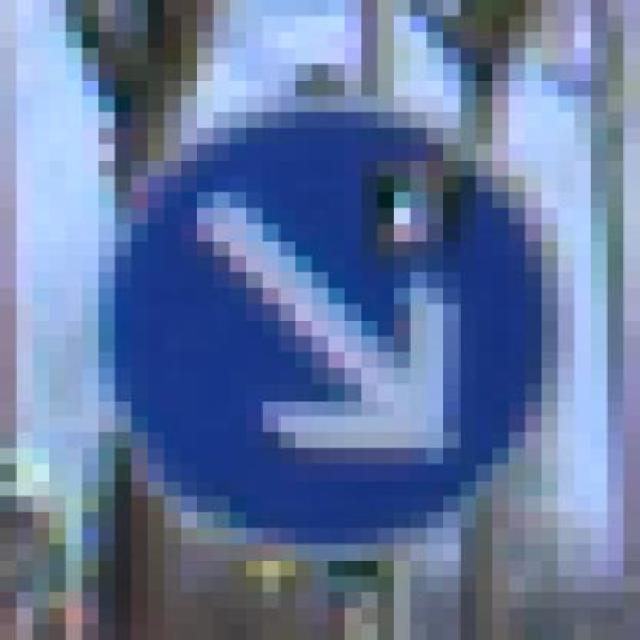Keep-Right: (82, 79, 575, 576)
